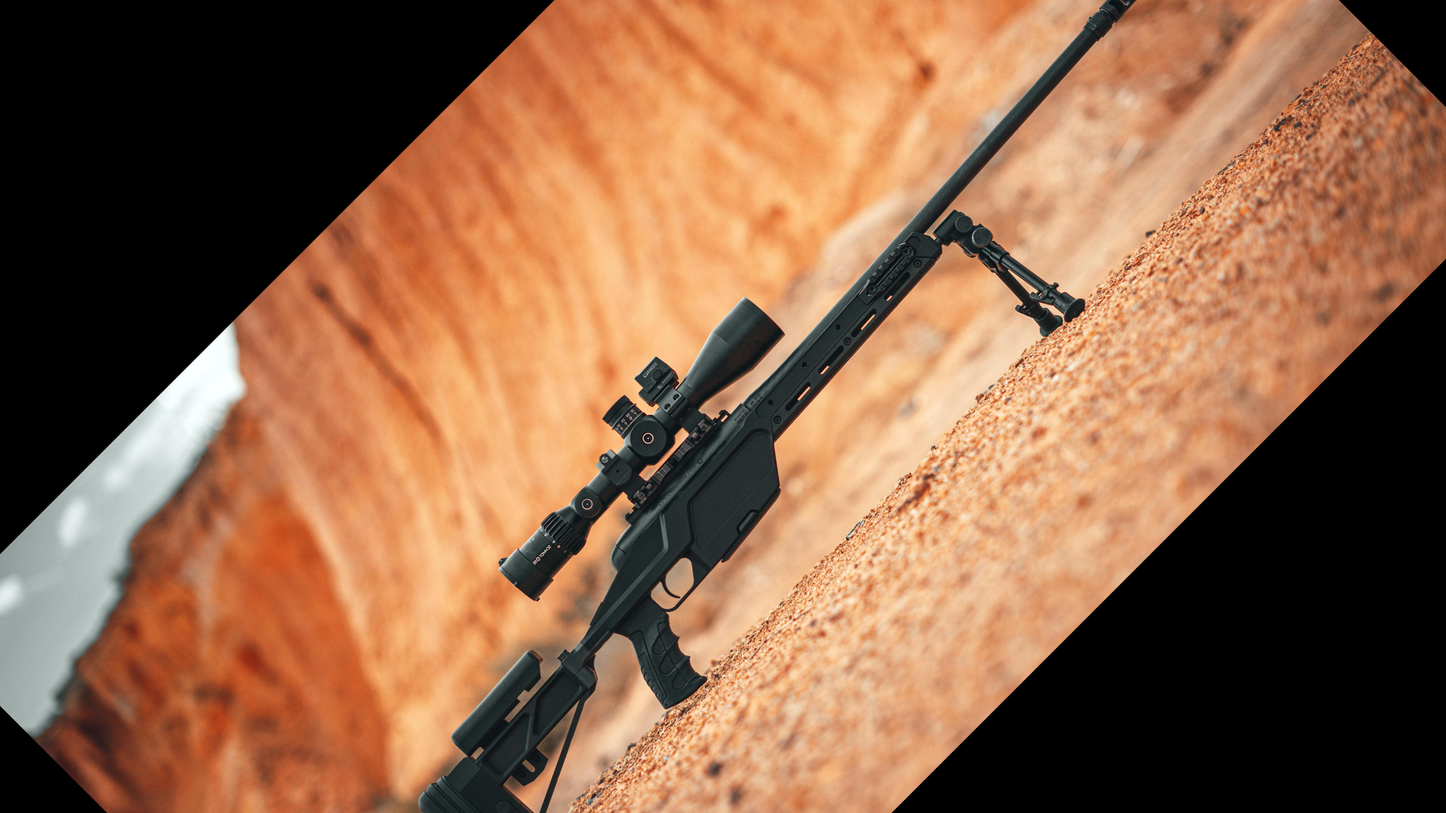larga: (419, 2, 1134, 813)
